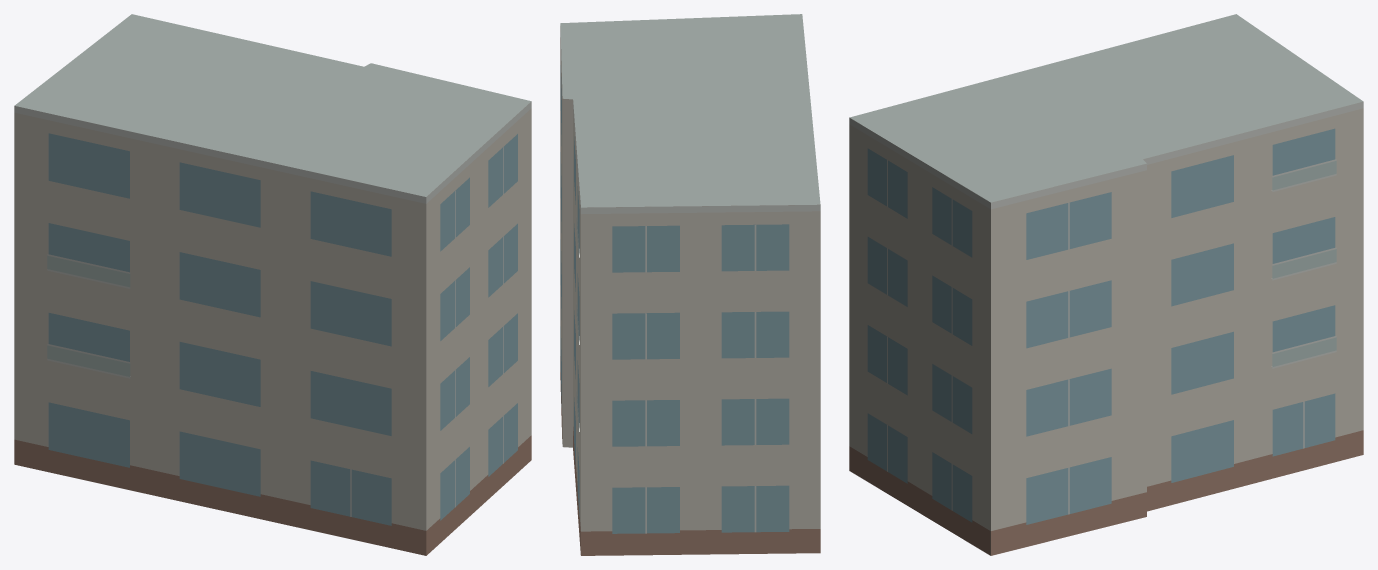
The model's file is survey-upis-32657501.glb.
3 views of the same model, side by side, from view 1: azimuth 30°, elevation 25°; view 2: azimuth 150°, elevation 25°; view 3: azimuth 270°, elevation 25° (orthographic). The views are drawn at different scales.
Visible parts, largest first — view 1: survey-upis-32657501.tmp; view 2: survey-upis-32657501.tmp; view 3: survey-upis-32657501.tmp.
Boxes of the visible parts, x1,y1,x2,y2 form: survey-upis-32657501.tmp: [14, 14, 531, 555]; survey-upis-32657501.tmp: [560, 14, 820, 555]; survey-upis-32657501.tmp: [849, 14, 1363, 555].
Size of the model in its own units: 14.67 by 12.8 by 16.9.
